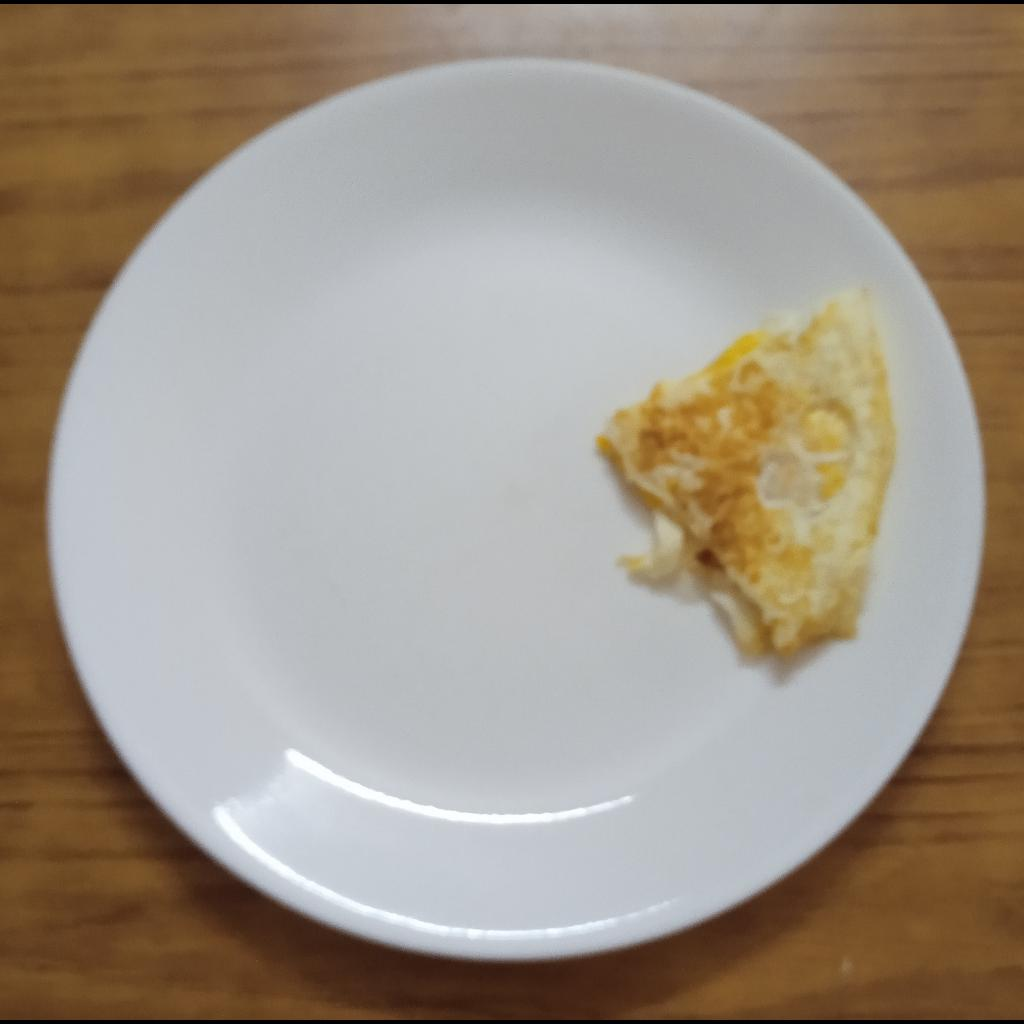egg-poached: (603, 275, 899, 658)
